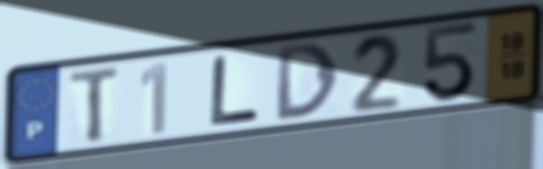1: (139, 59, 171, 137)
2: (347, 30, 407, 115)
5: (419, 18, 480, 105)
D: (274, 39, 342, 124)
L: (208, 53, 265, 129)
T: (67, 63, 124, 147)
